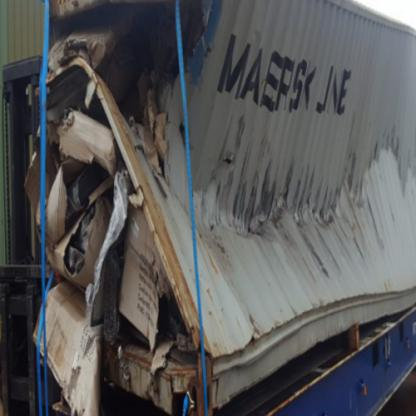Damage: (36, 2, 415, 406)
